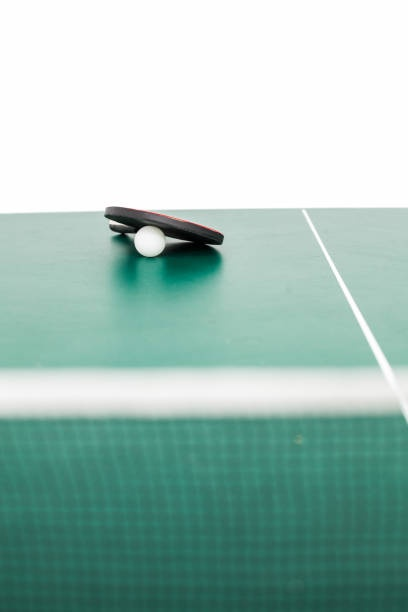bita: (234, 256, 263, 395)
